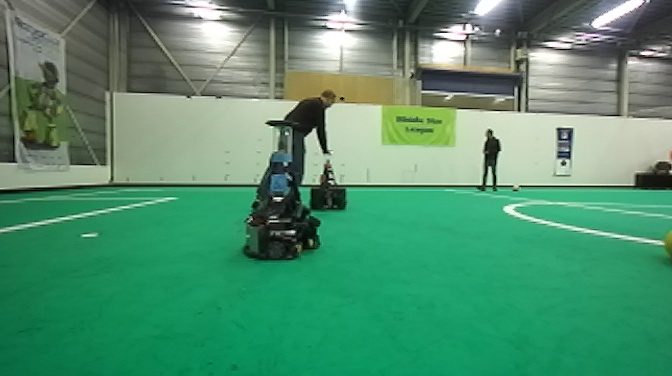ball: (663, 228, 672, 268), (509, 181, 523, 194)
human: (254, 87, 335, 218), (474, 127, 502, 193)
robot: (239, 119, 324, 262), (306, 148, 348, 212)
